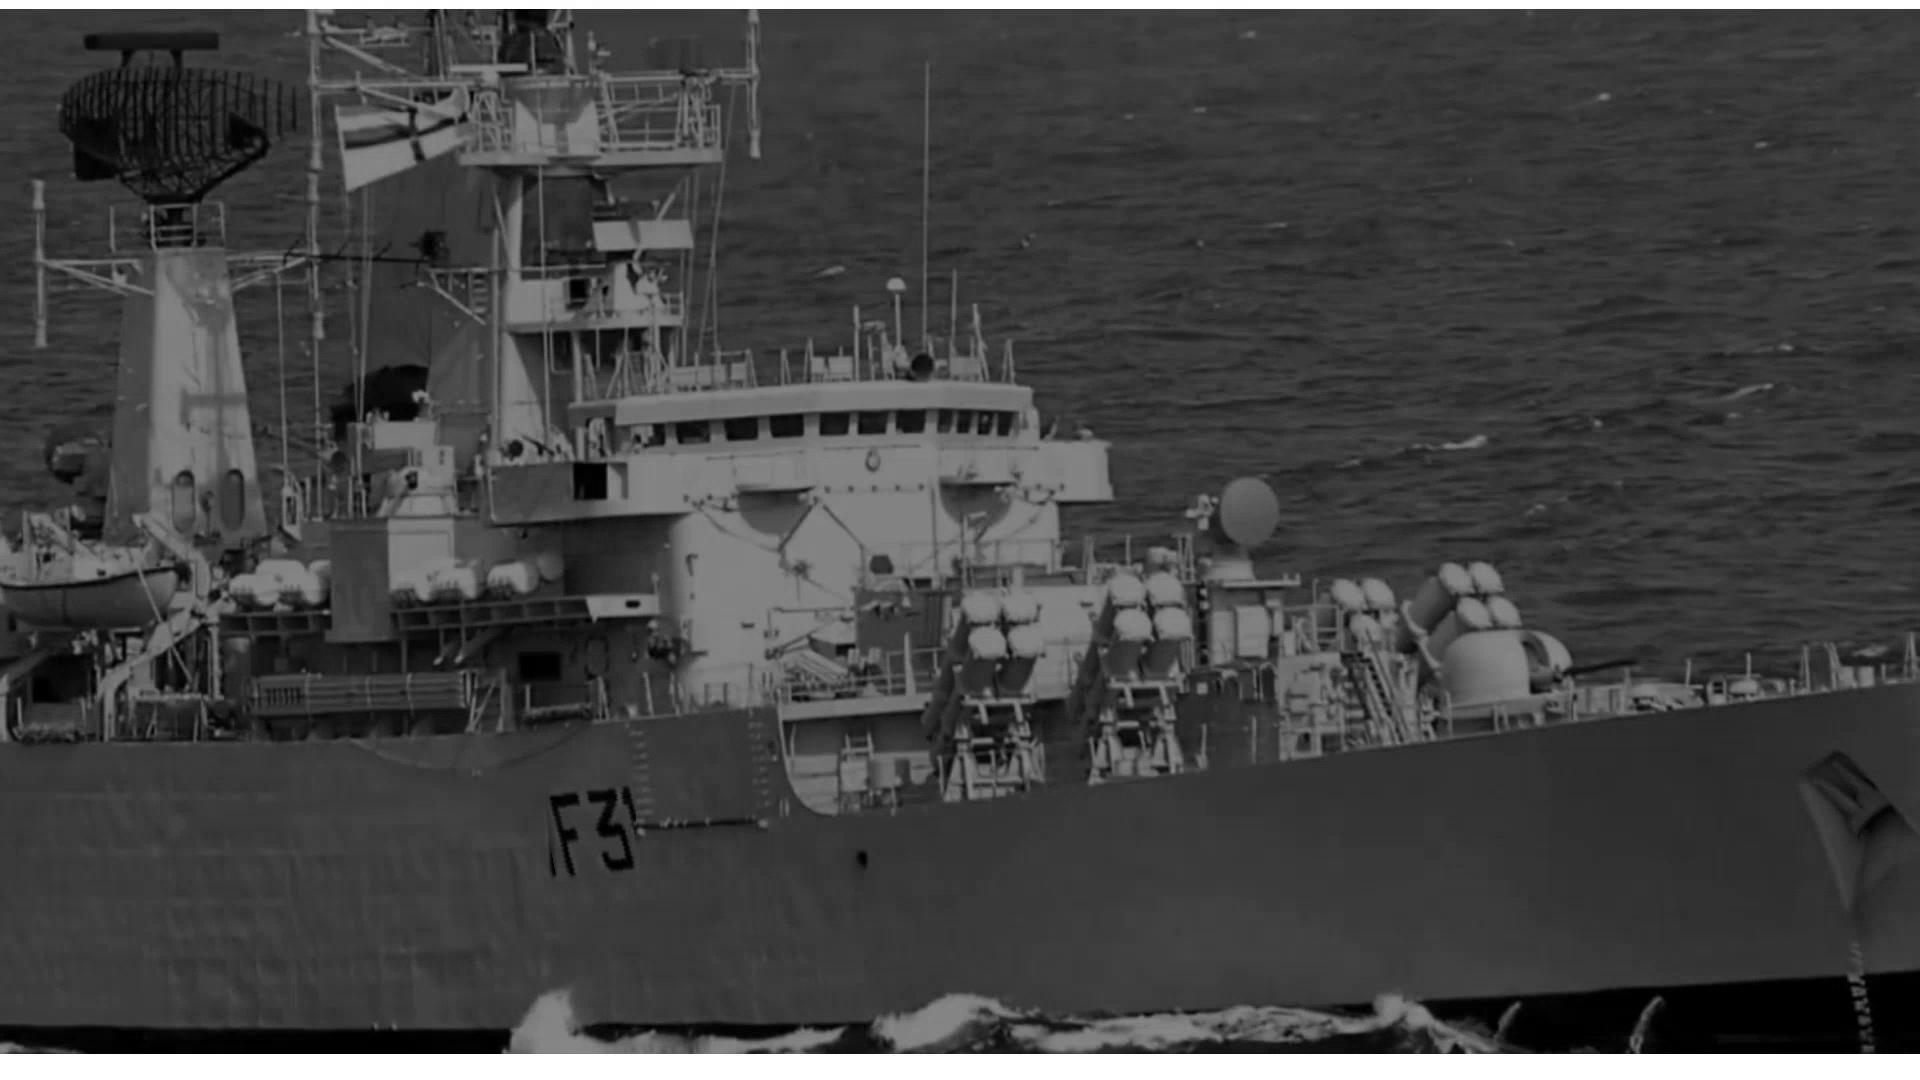OCR: (538, 782, 636, 882)
